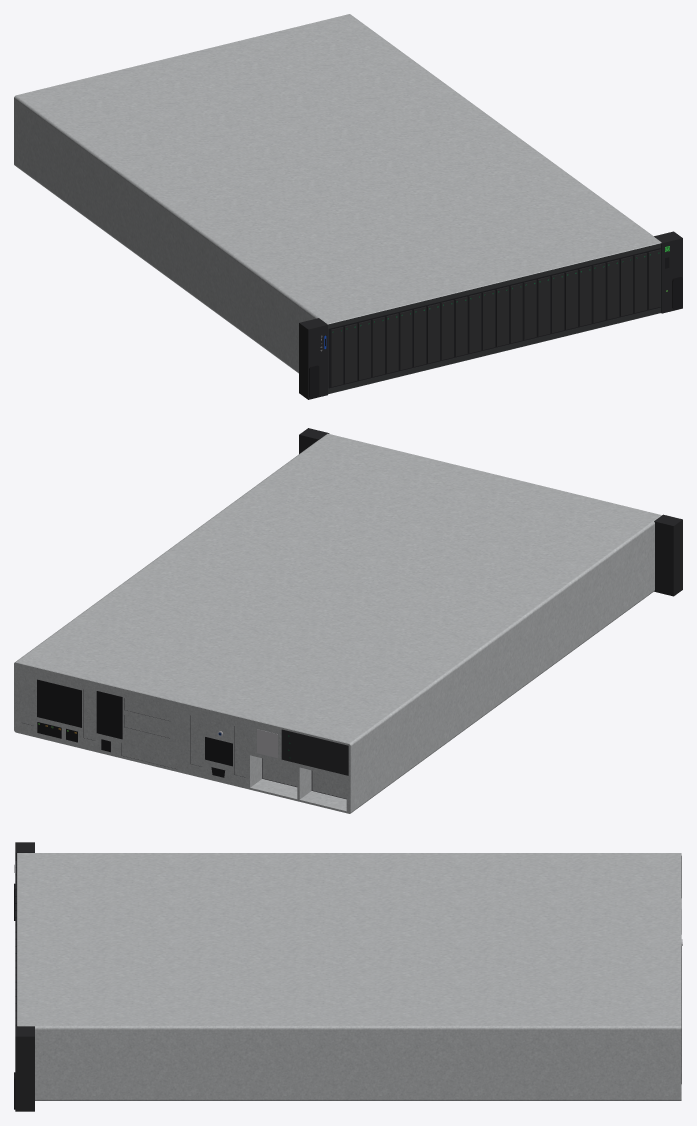
Rendered from R760xs.far.glb.
3 renders of one model, top to bottom at view 1: azimuth 30°, elevation 25°; view 2: azimuth 150°, elevation 25°; view 3: azimuth 270°, elevation 25°, orthographic. The views are drawn at different scales.
Parts seen in each view (by area): view 1: Shell_far; view 2: Shell_far, empty:NUMA 0 - OCP slot 1, empty:PSU-2, empty:PSU-1, empty:NUMA 0 - PCIe slot 1 - LP, empty:NUMA 0 - PCIe slot 3 - LP, empty:NUMA 0/1 - PCIe slot 4 - LP, empty:NUMA 0 - PCIe slot 2 - LP, empty:NUMA 1 - PCIe slot 5 - LP, empty:NUMA 1 - PCIe slot 6 - LP; view 3: Shell_far.
Boxes of the visible parts, x1,y1,x2,y2 form: Shell_far: [14, 14, 682, 399]; Shell_far: [14, 428, 682, 813]; empty:NUMA 0 - OCP slot 1: [121, 742, 177, 768]; empty:PSU-2: [312, 770, 346, 798]; empty:PSU-1: [263, 758, 297, 786]; empty:NUMA 0 - PCIe slot 1 - LP: [21, 674, 33, 725]; empty:NUMA 0 - PCIe slot 3 - LP: [124, 715, 170, 738]; empty:NUMA 0/1 - PCIe slot 4 - LP: [124, 698, 170, 720]; empty:NUMA 0 - PCIe slot 2 - LP: [84, 689, 95, 740]; empty:NUMA 1 - PCIe slot 5 - LP: [191, 715, 202, 766]; empty:NUMA 1 - PCIe slot 6 - LP: [234, 726, 245, 777]; Shell_far: [14, 842, 682, 1111].
Size of the model in its own units: 0.482 by 0.0868 by 0.7008.
Materials: 3 (2 with a texture image).
